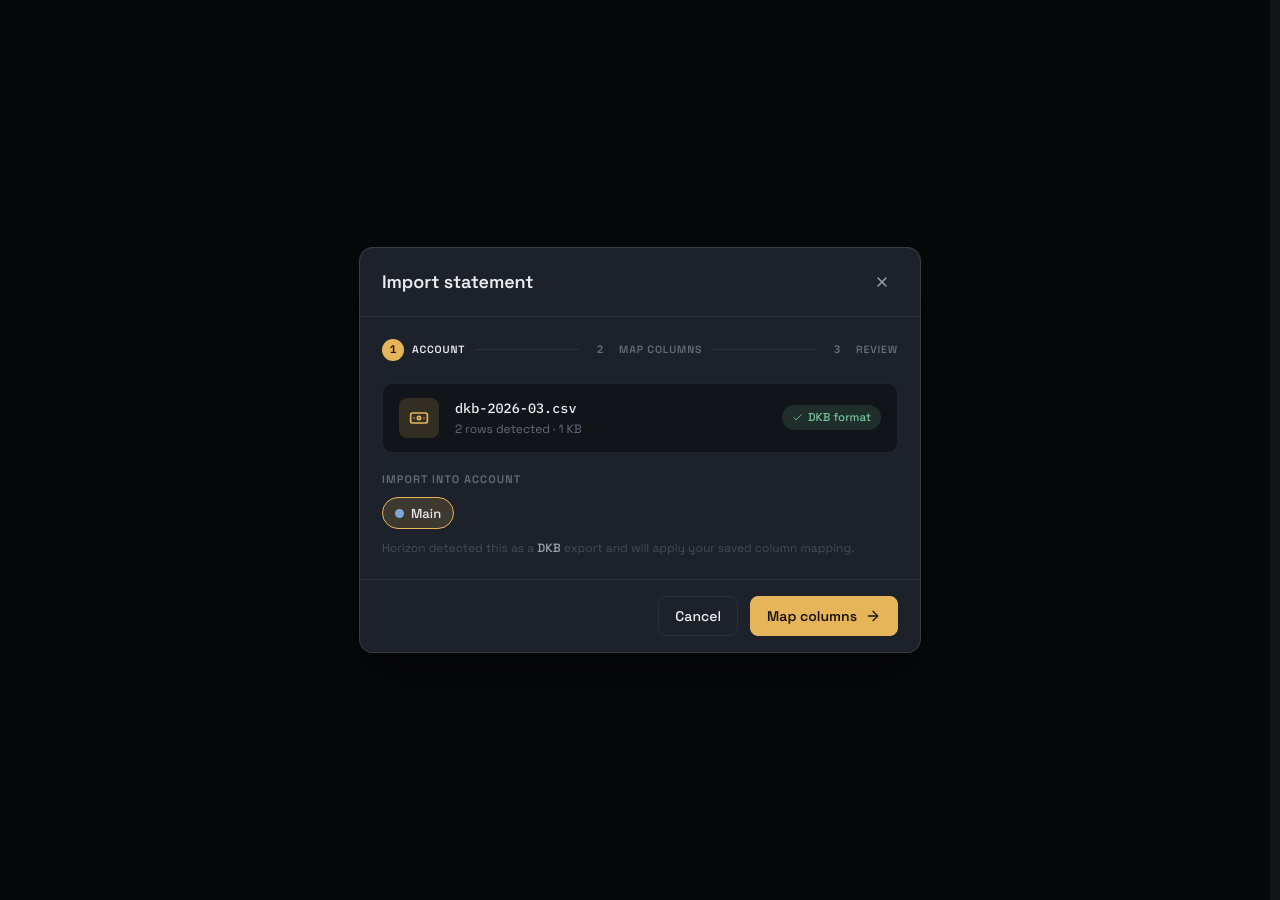
Scenario: ImportWizard — editable description and blockers (#190) › renders every row's description as an editable input, blocked or not
Click the button "Map columns".
click(824, 616)  # box [750,596,898,636]
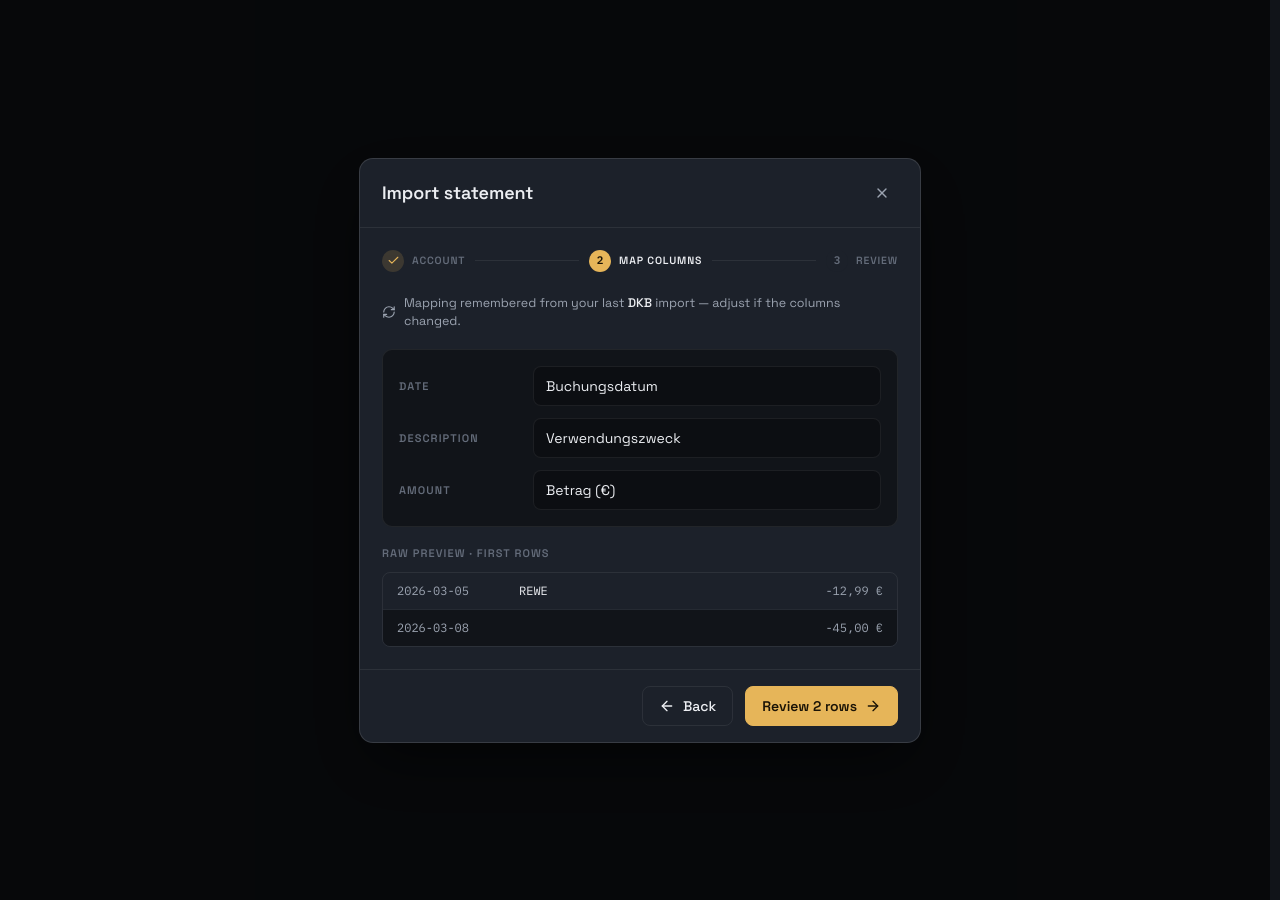
Click the button "Review 2 rows".
click(822, 706)  # box [745,686,898,726]
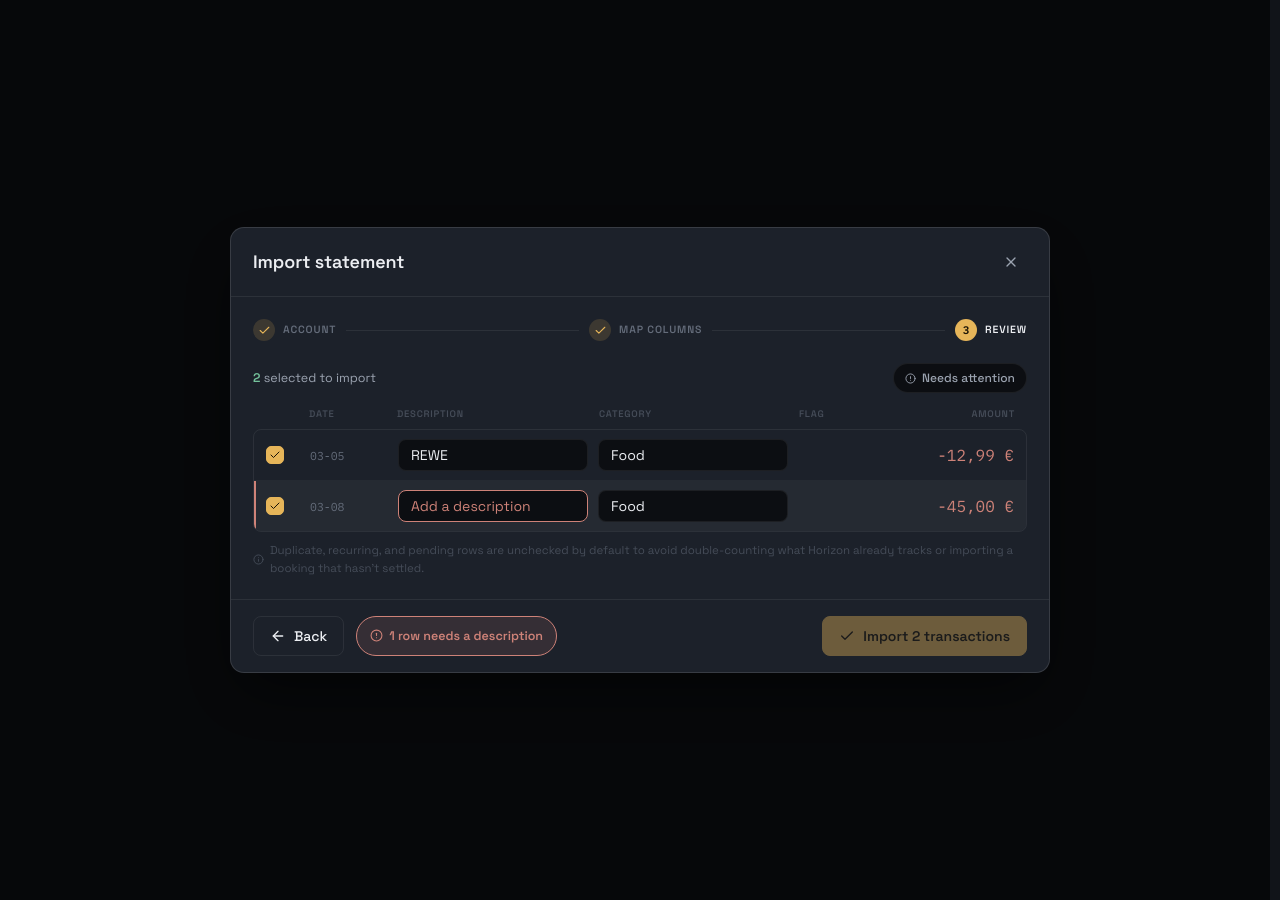
Expected: the number of fields named "description" is 2, [398,439,588,471]; [398,490,588,522]
Expected: the field named "description" holds "REWE", [398,439,588,471]
Expected: the field labelled "Add a description" is empty, [398,490,588,522]
